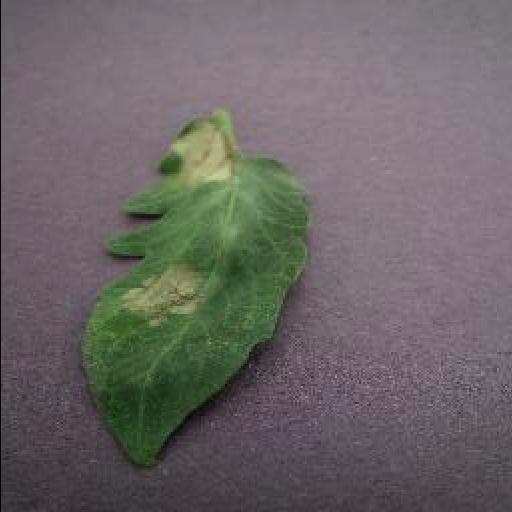disease_tomato: (74, 122, 312, 470)
